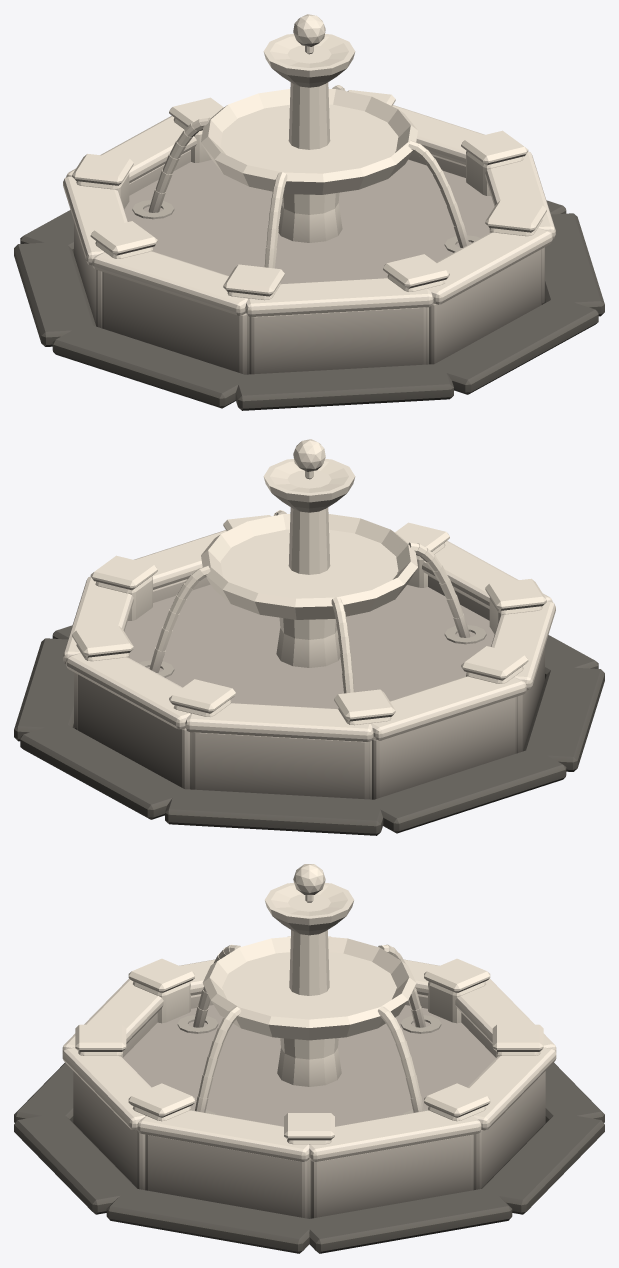
File: SM_VK_Prop_Fountain.fbx
The picture shows the model from 3 angles, top to bottom: view 1: azimuth 30°, elevation 25°; view 2: azimuth 150°, elevation 25°; view 3: azimuth 270°, elevation 25°; orthographic projection. The views are drawn at different scales.
Parts seen in each view (by area): view 1: SM_VK_Prop_Fountain.001; view 2: SM_VK_Prop_Fountain.001; view 3: SM_VK_Prop_Fountain.001.
Part boxes in pixels (bbox=[...]): SM_VK_Prop_Fountain.001: bbox=[14, 14, 604, 410]; SM_VK_Prop_Fountain.001: bbox=[14, 439, 604, 835]; SM_VK_Prop_Fountain.001: bbox=[14, 864, 604, 1253].
Size of the model in its own units: 5.8 by 2.88 by 5.8.
